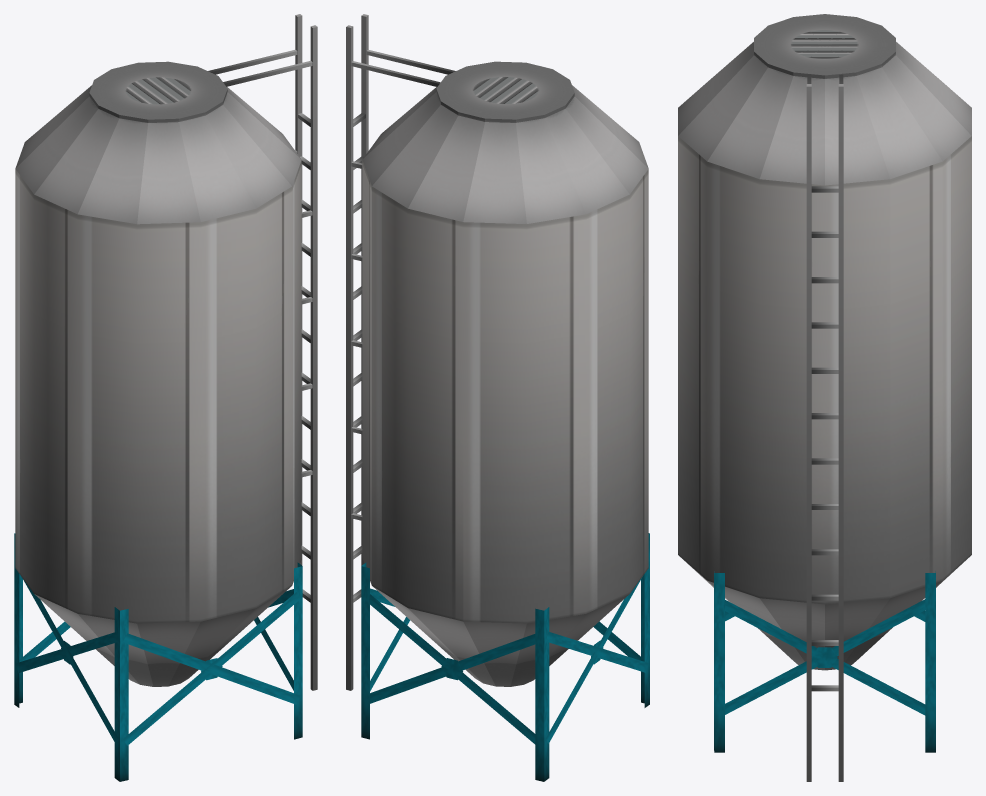
The model's file is industrial_silos_04.fbx.
The picture shows the model from 3 angles, left to right: view 1: azimuth 30°, elevation 25°; view 2: azimuth 150°, elevation 25°; view 3: azimuth 270°, elevation 25°; orthographic projection. The views are drawn at different scales.
Parts seen in each view (by area): view 1: ind:silos_04; view 2: ind:silos_04; view 3: ind:silos_04.
Part boxes in pixels (x1,y1,x2,y2): ind:silos_04: (14,14,317,781); ind:silos_04: (346,14,649,781); ind:silos_04: (678,14,971,781).
Size of the model in its own units: 3.33 by 7.68 by 2.93.
